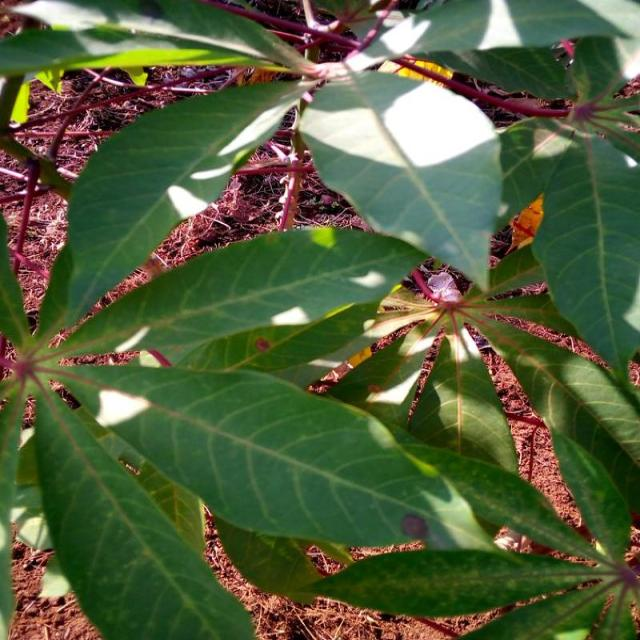cassava leaf: (1, 1, 638, 637), (36, 77, 310, 341), (33, 384, 256, 638), (50, 224, 432, 367), (294, 68, 504, 294), (530, 129, 640, 378)
